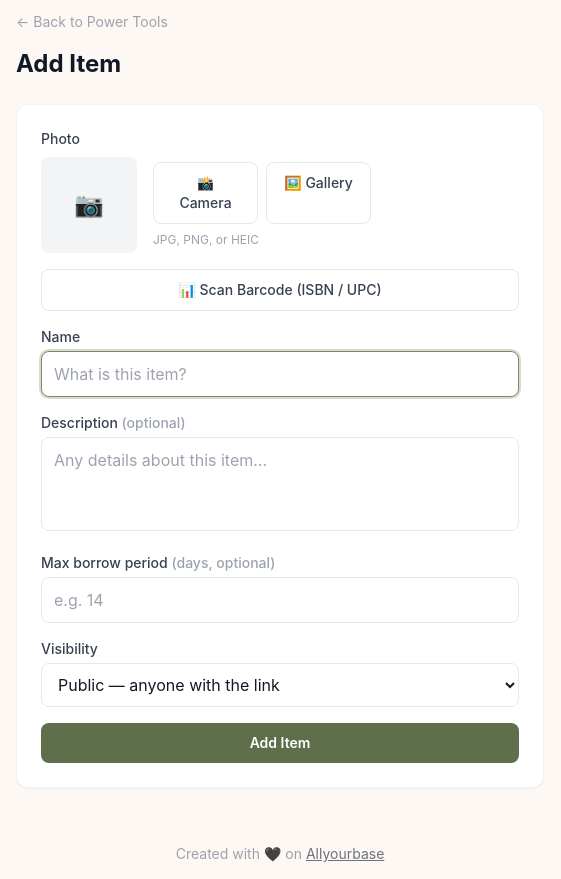
Test: AddItem › form submission › shows loading state during submission
Expected: the heading "Add Item" is shown, [16,49,121,78]
Type "Slow Item" into the field with placeholder "What is this item?" at (280, 374), box [41,351,519,397]
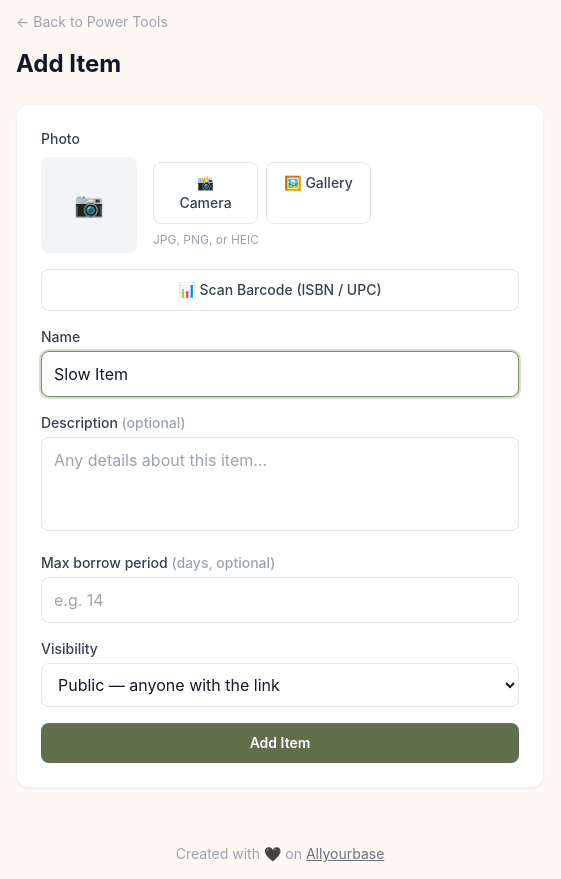
Submit the form named "Add Item"
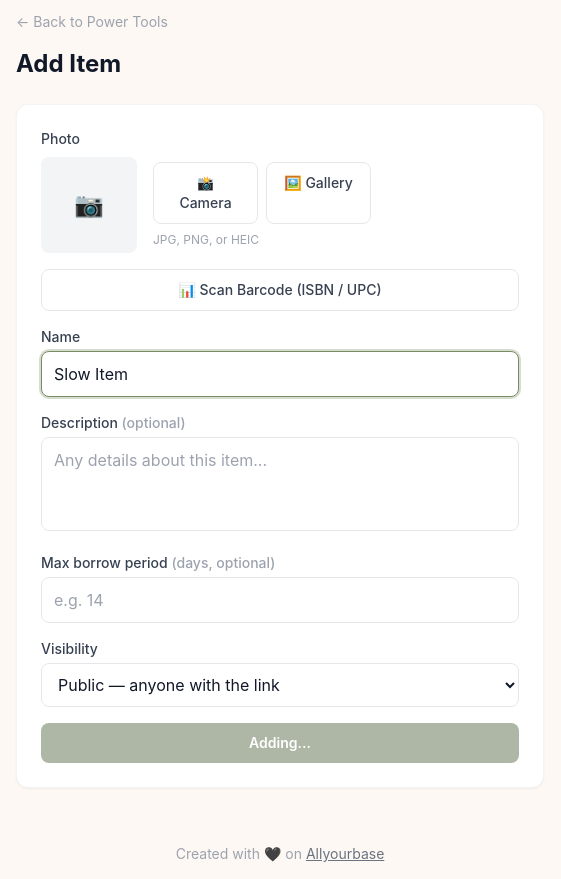
Expected: the button "Adding..." is shown, [41,723,519,763]
